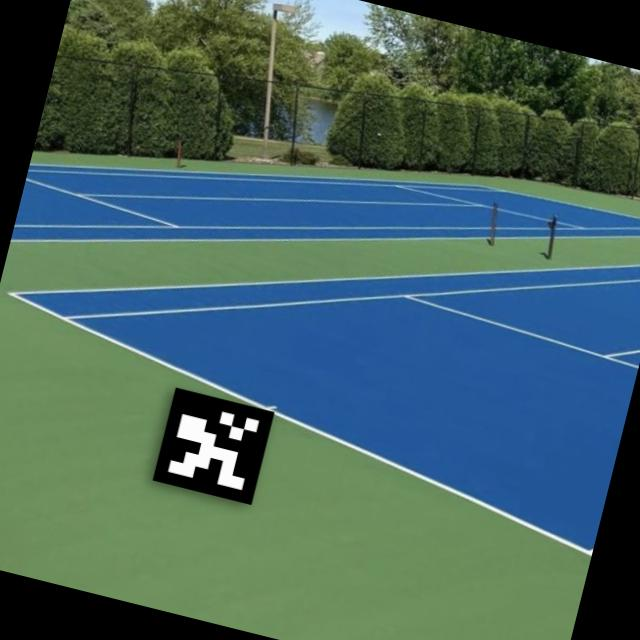marker: (136, 374, 284, 520)
